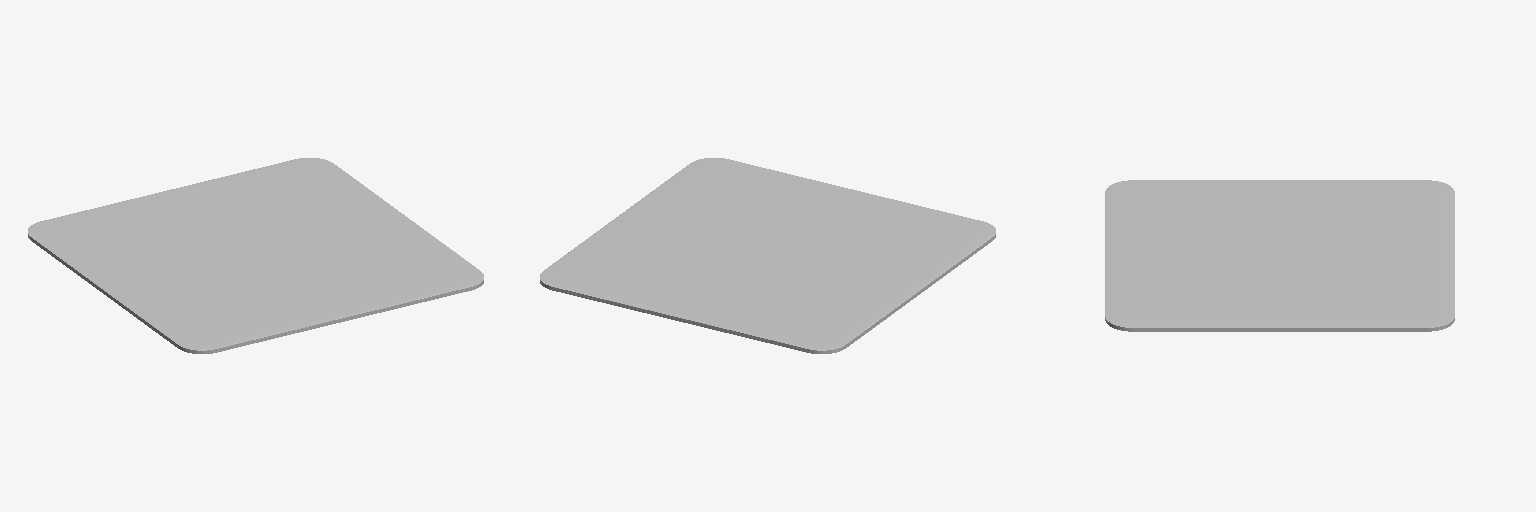
Rendered from Tile5x5.obj.
3 renders of one model, left to right at view 1: azimuth 30°, elevation 25°; view 2: azimuth 150°, elevation 25°; view 3: azimuth 270°, elevation 25°, orthographic.
Parts seen in each view (by area): view 1: Cube.001; view 2: Cube.001; view 3: Cube.001.
Part boxes in pixels (x1,y1,x2,y2): Cube.001: (28, 158, 483, 353); Cube.001: (540, 158, 995, 353); Cube.001: (1105, 180, 1454, 331).
Bounding box in the file's own units: 10 × 0.14 × 10.